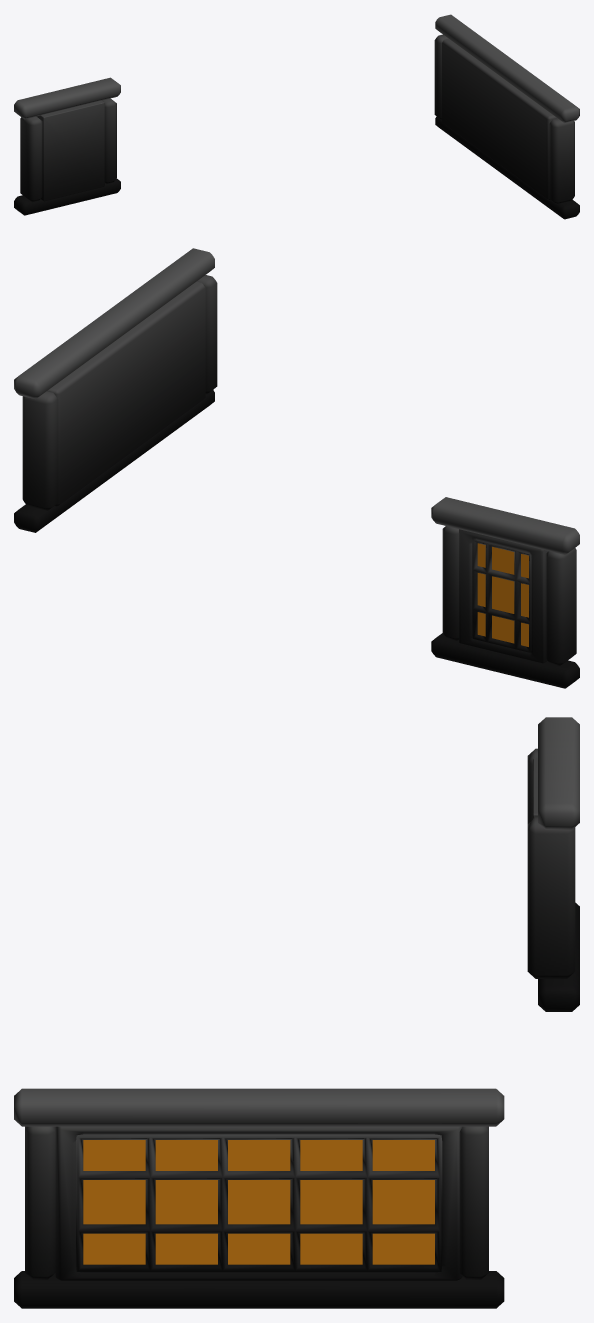
The model's file is SM_Stone_Window_02.fbx.
The picture shows the model from 3 angles, top to bottom: view 1: azimuth 30°, elevation 25°; view 2: azimuth 150°, elevation 25°; view 3: azimuth 270°, elevation 25°; orthographic projection. The views are drawn at different scales.
Visible parts, largest first — view 1: SM_Stone_Window_02; view 2: SM_Stone_Window_02; view 3: SM_Stone_Window_02.
Part boxes in pixels (x1,y1,x2,y2): SM_Stone_Window_02: [14, 14, 579, 219]; SM_Stone_Window_02: [14, 248, 579, 688]; SM_Stone_Window_02: [14, 717, 579, 1308].
Size of the model in its own units: 1.68 by 0.4234 by 1.04.
